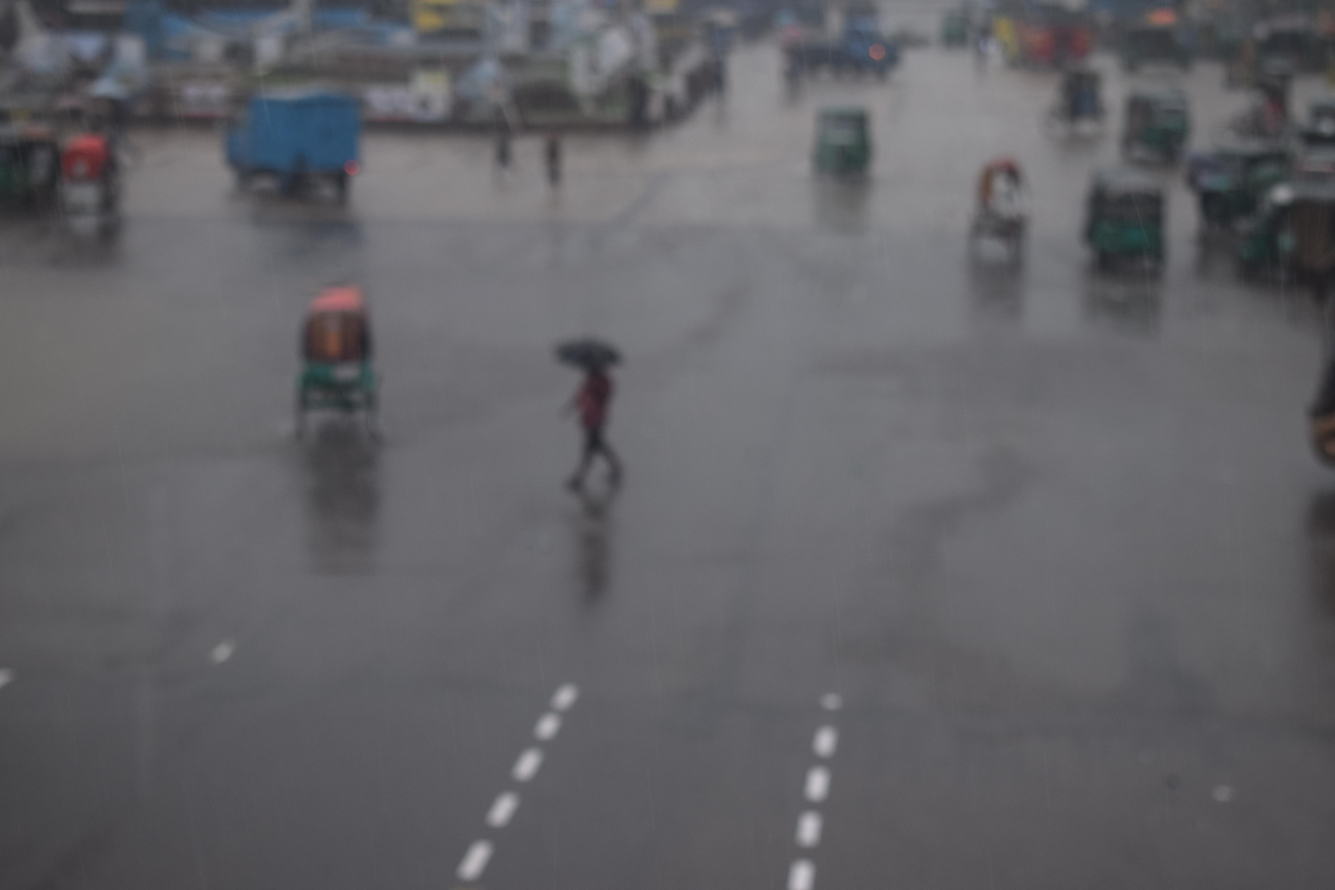Car: (270, 268, 412, 452), (950, 113, 1053, 284)
Truck: (196, 58, 378, 210)
